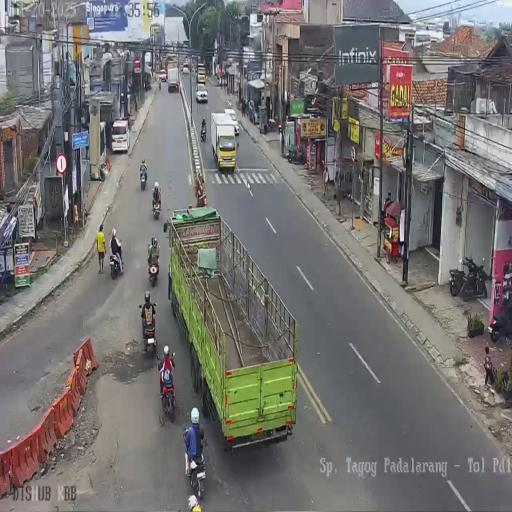3: (170, 206, 294, 452), (210, 112, 238, 172), (167, 66, 180, 93), (196, 62, 206, 84), (144, 51, 152, 78)
car: (111, 117, 130, 154), (247, 100, 259, 124), (195, 86, 208, 104), (158, 68, 167, 82), (182, 64, 189, 74), (192, 64, 195, 74)
truck: (183, 435, 206, 500), (158, 358, 176, 417), (140, 309, 157, 354), (449, 262, 469, 296), (489, 309, 508, 342), (109, 244, 123, 280), (147, 248, 160, 285), (286, 146, 306, 165), (152, 187, 162, 218), (139, 168, 147, 190), (200, 124, 206, 142)
